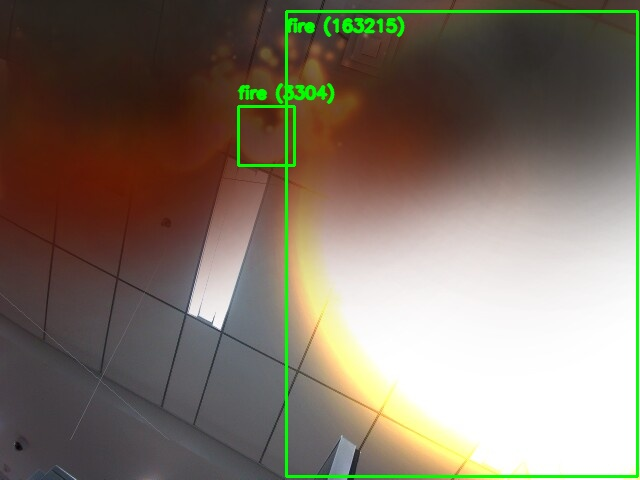fire: (286, 11, 637, 476), (238, 106, 294, 165)
